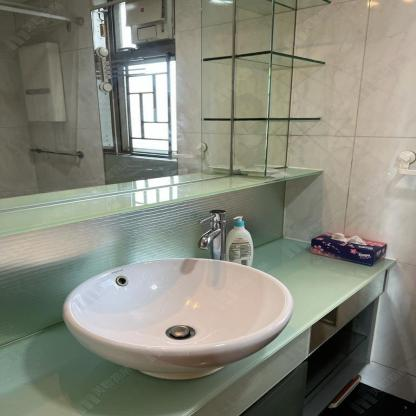Faucet: (186, 203, 227, 260)
Thermo Ventilator: (124, 0, 173, 45)
Toilet Sink: (56, 256, 301, 386)
Water Heater: (15, 42, 66, 122)
